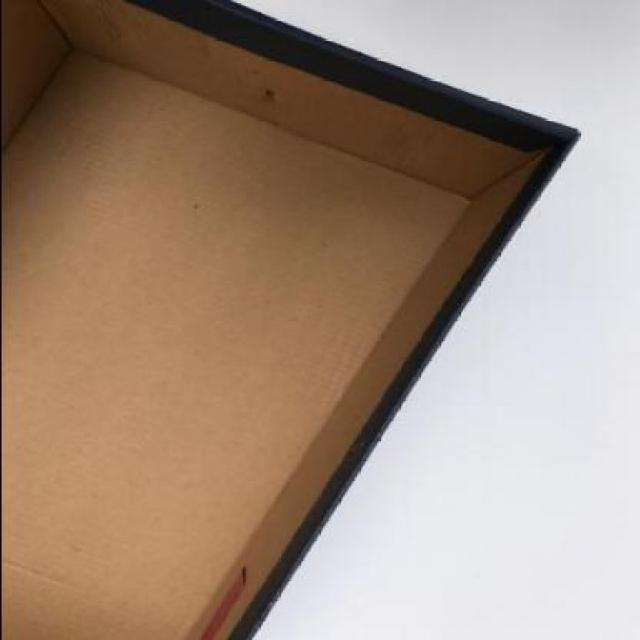box: (0, 2, 580, 639)
